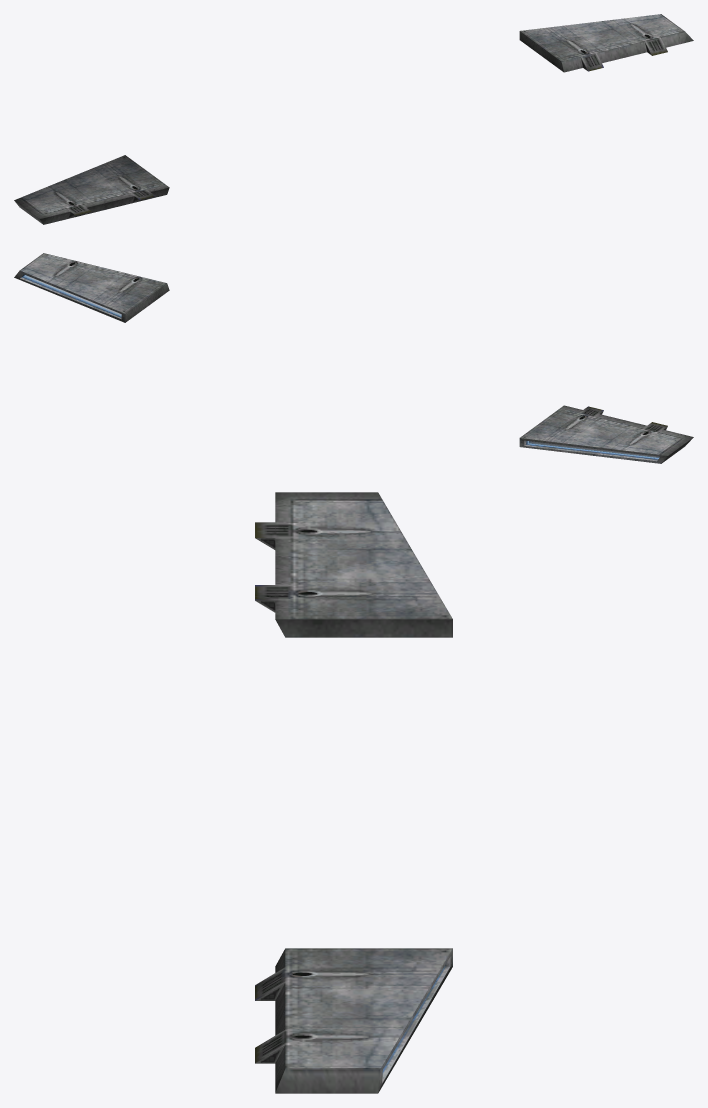
Rendered from xwing_booster_neg_s02_l1.fbx.
The picture shows the model from 3 angles, top to bottom: view 1: azimuth 30°, elevation 25°; view 2: azimuth 150°, elevation 25°; view 3: azimuth 270°, elevation 25°; orthographic projection. The views are drawn at different scales.
Parts seen in each view (by area): view 1: mesh_node; view 2: mesh_node; view 3: mesh_node.
Boxes of the visible parts, bbox=[...] form: mesh_node: bbox=[14, 14, 693, 224]; mesh_node: bbox=[14, 253, 693, 463]; mesh_node: bbox=[255, 492, 452, 1093].
Size of the model in its own units: 10.21 by 0.551 by 1.34.
1 material, 1 textured.
